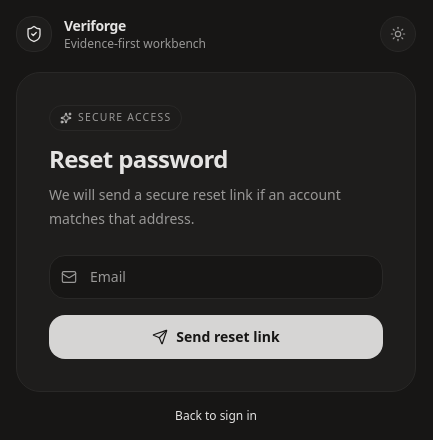
it: ForgotPasswordPage › confirms only a successful request
This screenshot has width=433, height=440.
Step 1. Type "someone@example.com" into the field labelled "Email" → (216, 277), box [49,255,383,299]
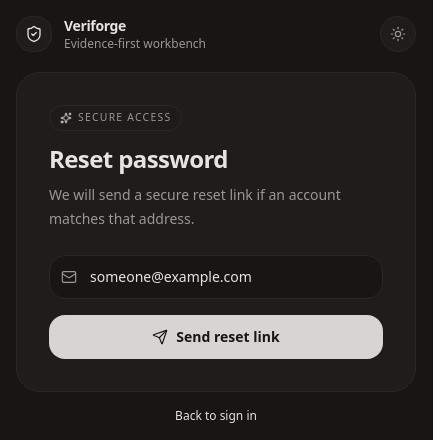
Step 2. Click the button "Send reset link" → (216, 337), box [49,315,383,359]
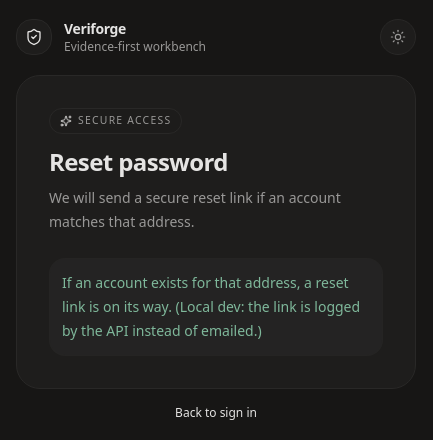
Result: the text "If an account exists for that address, a reset link is on its way" is shown at [62,273,360,340]
